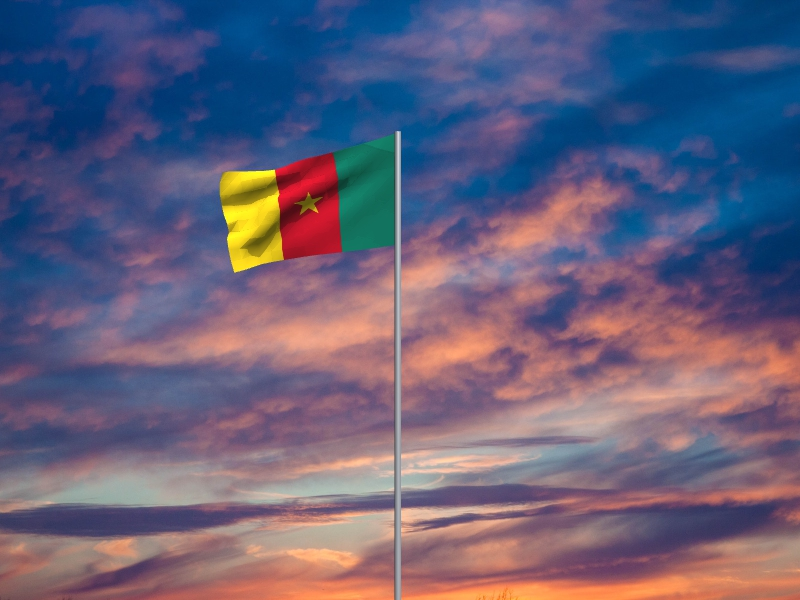cm: (219, 134, 395, 275)
